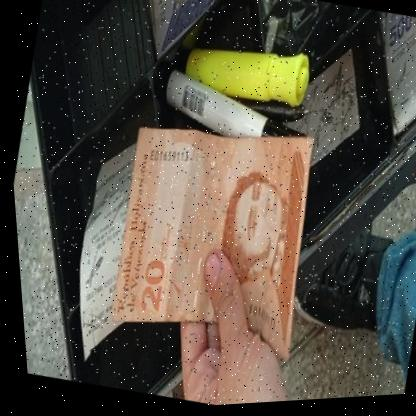twenty-front-vef: (89, 101, 336, 370)
